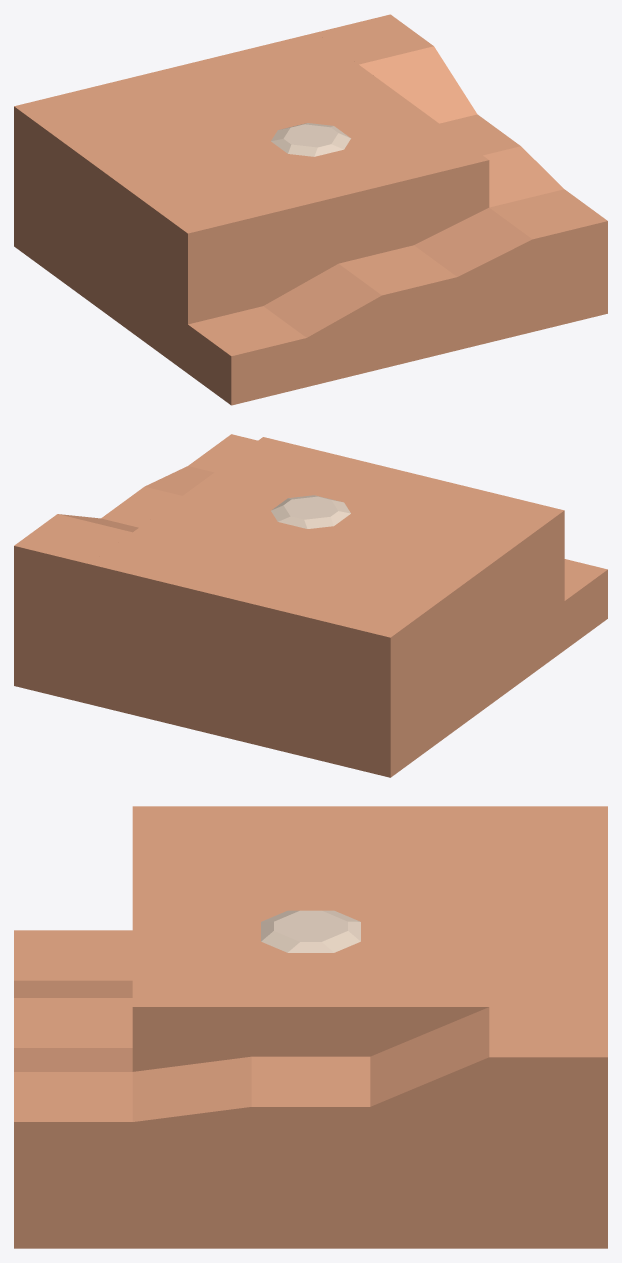
File: land1.glb
The picture shows the model from 3 angles, top to bottom: view 1: azimuth 30°, elevation 25°; view 2: azimuth 150°, elevation 25°; view 3: azimuth 270°, elevation 25°; orthographic projection. The views are drawn at different scales.
Parts seen in each view (by area): view 1: Cube, Cube.001; view 2: Cube, Cube.001; view 3: Cube, Cube.001.
Part boxes in pixels (x1,y1,x2,y2): Cube: [14, 14, 607, 405]; Cube.001: [271, 123, 350, 156]; Cube: [14, 434, 607, 777]; Cube.001: [271, 495, 350, 528]; Cube: [14, 806, 607, 1248]; Cube.001: [261, 910, 360, 952].
Size of the model in its own units: 33.45 by 12.24 by 33.45.
